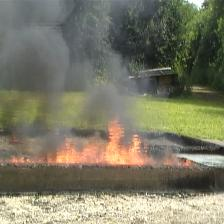fire: (0, 117, 196, 166)
